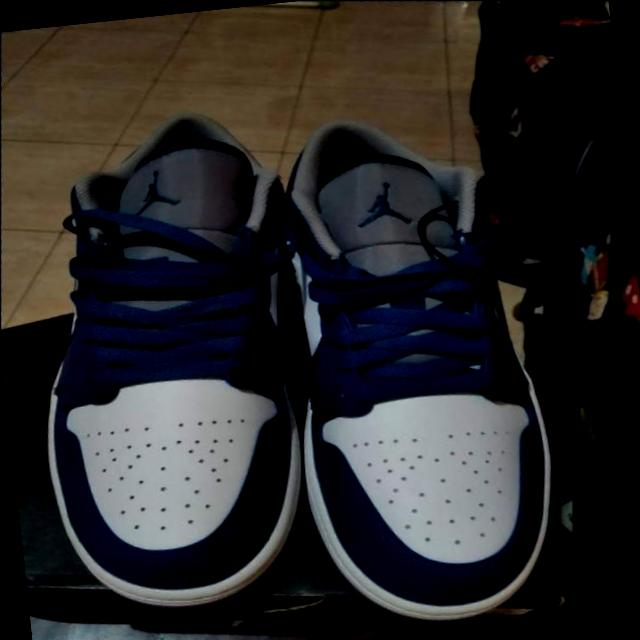nike_original_jordan: (231, 89, 602, 640), (0, 76, 360, 636)
